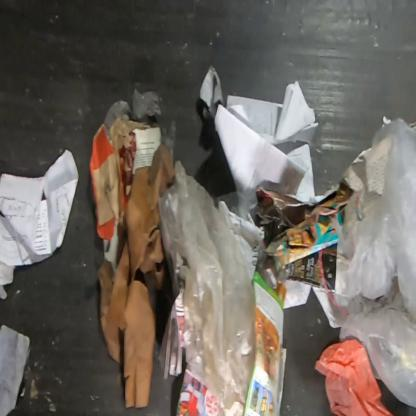cardboard: (95, 145, 175, 410), (250, 177, 354, 270), (89, 114, 156, 242)
soft_plastic: (158, 160, 255, 415), (333, 111, 416, 409), (104, 89, 176, 160)
